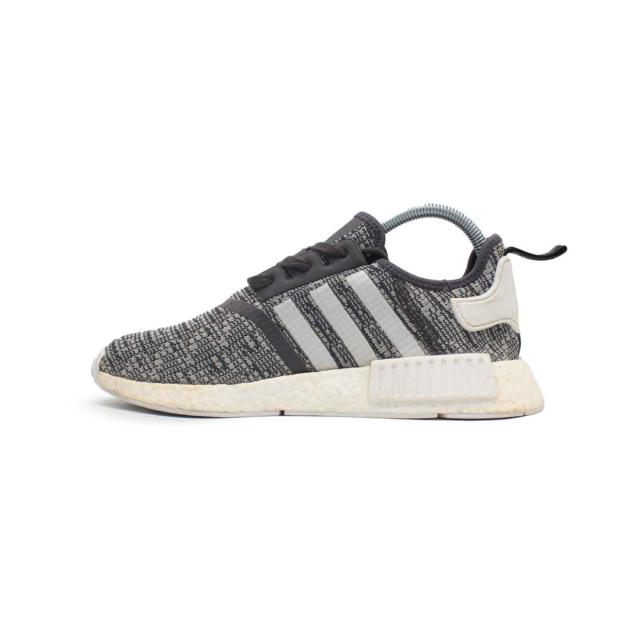heel: (461, 236, 567, 357)
midsole: (91, 348, 544, 418)
uppersole: (99, 213, 461, 384)
